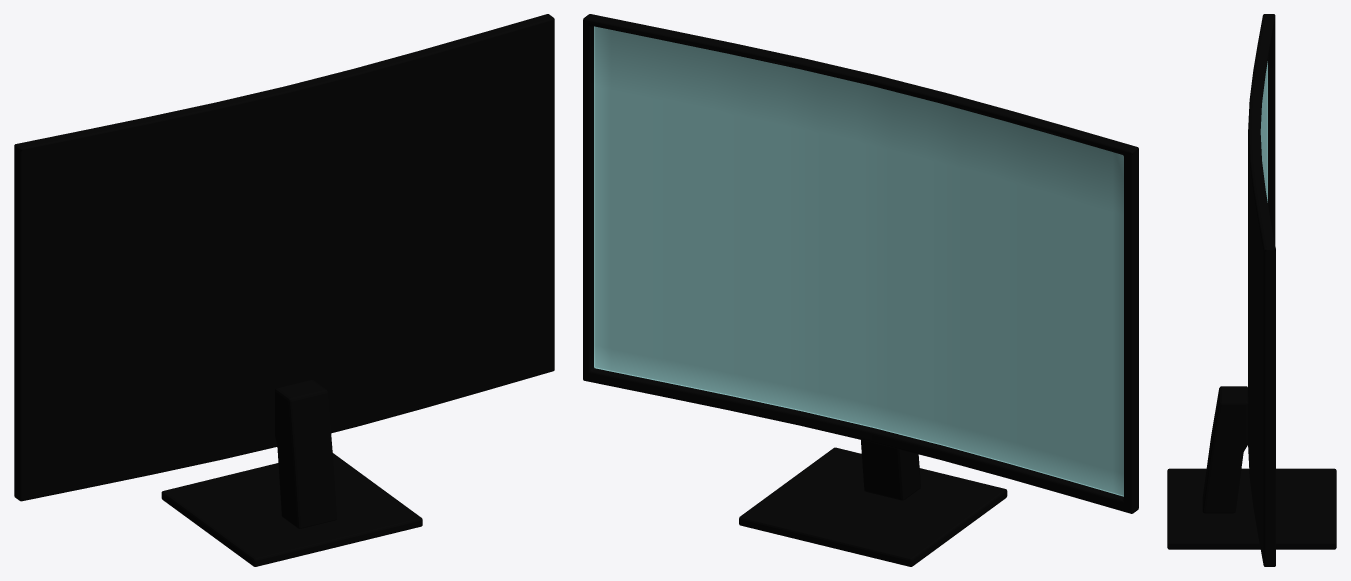
File: ComputerMonitor.fbx
3 renders of one model, left to right at view 1: azimuth 30°, elevation 25°; view 2: azimuth 150°, elevation 25°; view 3: azimuth 270°, elevation 25°, orthographic. The views are drawn at different scales.
Visible parts, largest first — view 1: Cube.009; view 2: Cube.009; view 3: Cube.009.
Boxes of the visible parts, box(x1,y1,x2,y2) form: Cube.009: box(14, 14, 554, 566); Cube.009: box(583, 14, 1138, 566); Cube.009: box(1167, 14, 1336, 566).
Bounding box in the file's own units: 139 × 106 × 42.23.
